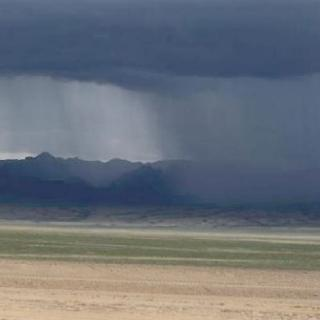Nimbostratus: (0, 1, 320, 164)
